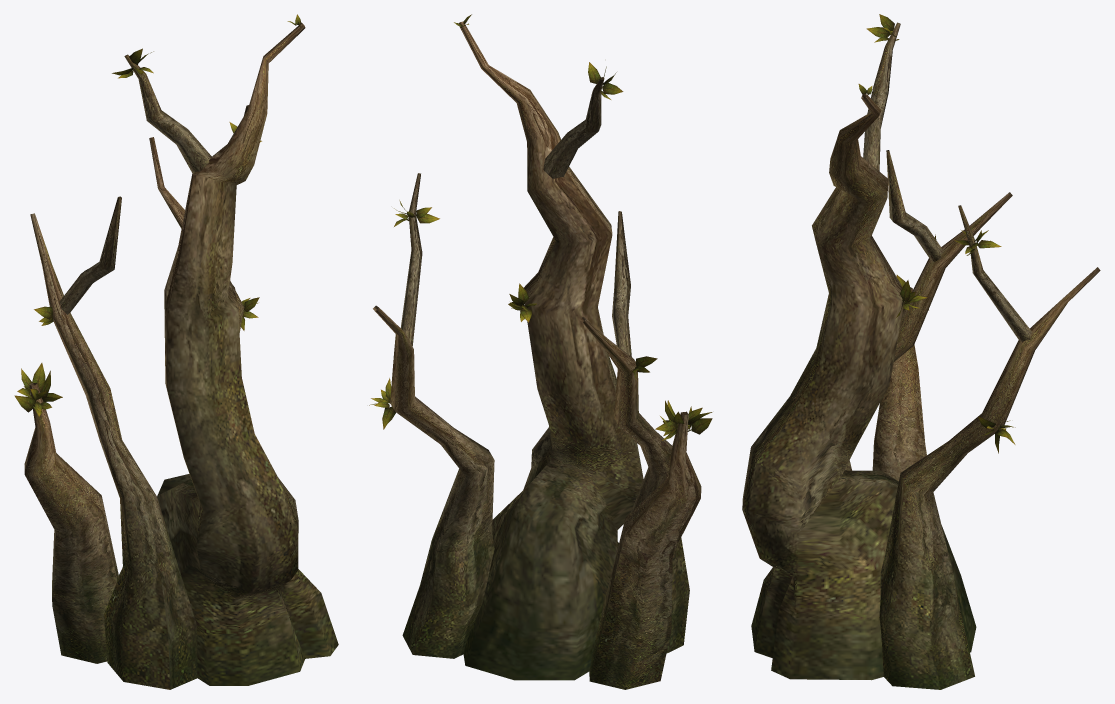
The model's file is desert_tree_002.fbx.
The picture shows the model from 3 angles, left to right: view 1: azimuth 30°, elevation 25°; view 2: azimuth 150°, elevation 25°; view 3: azimuth 270°, elevation 25°; orthographic projection.
Visible parts, largest first — view 1: Desert_Tree_002; view 2: Desert_Tree_002; view 3: Desert_Tree_002.
Boxes of the visible parts, x1,y1,x2,y2 form: Desert_Tree_002: [14, 14, 338, 689]; Desert_Tree_002: [369, 14, 712, 689]; Desert_Tree_002: [742, 14, 1100, 689].
Size of the model in its own units: 7.12 by 14 by 7.67.
